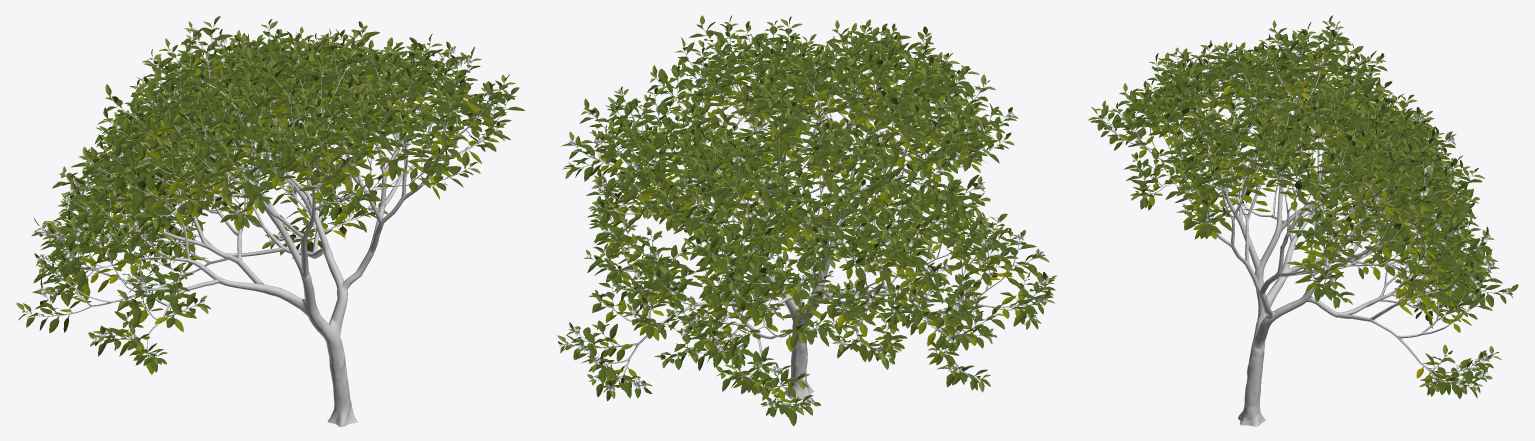
Rendered from Citrus_orange_3m_green2.obj.
3 renders of one model, left to right at view 1: azimuth 30°, elevation 25°; view 2: azimuth 150°, elevation 25°; view 3: azimuth 270°, elevation 25°, orthographic. The views are drawn at different scales.
Parts seen in each view (by area): view 1: Citrus_aurant_leaf_01, Citrus_aurant_leaf_04, Citrus_aurantium_bark, Citrus_aurant_leaf_01_y1, Citrus_aurant_leaf_02, Citrus_aurantium_twig, Citrus_simple_flower, Citrus_aurant_leaf_01_y2, Citrus_aurant_leaf_03; view 2: Citrus_aurant_leaf_01, Citrus_aurant_leaf_04, Citrus_aurant_leaf_01_y1, Citrus_aurant_leaf_02, Citrus_aurantium_bark, Citrus_aurantium_twig, Citrus_simple_flower, Citrus_aurant_leaf_03, Citrus_aurant_leaf_01_y2; view 3: Citrus_aurant_leaf_01, Citrus_aurant_leaf_04, Citrus_aurantium_bark, Citrus_aurant_leaf_01_y1, Citrus_aurant_leaf_02, Citrus_aurantium_twig, Citrus_simple_flower, Citrus_aurant_leaf_01_y2, Citrus_aurant_leaf_03.
Part boxes in pixels (left/top/right/bottom): Citrus_aurant_leaf_01: left=26, top=27, right=524, bottom=372; Citrus_aurant_leaf_04: left=16, top=16, right=519, bottom=364; Citrus_aurantium_bark: left=56, top=56, right=486, bottom=426; Citrus_aurant_leaf_01_y1: left=57, top=57, right=498, bottom=374; Citrus_aurant_leaf_02: left=23, top=27, right=510, bottom=356; Citrus_aurantium_twig: left=27, top=27, right=507, bottom=357; Citrus_simple_flower: left=36, top=27, right=489, bottom=355; Citrus_aurant_leaf_01_y2: left=60, top=69, right=468, bottom=324; Citrus_aurant_leaf_03: left=46, top=43, right=502, bottom=291; Citrus_aurant_leaf_01: left=563, top=23, right=1055, bottom=426; Citrus_aurant_leaf_04: left=557, top=15, right=1056, bottom=414; Citrus_aurant_leaf_01_y1: left=586, top=58, right=1028, bottom=402; Citrus_aurant_leaf_02: left=564, top=22, right=1054, bottom=415; Citrus_aurantium_bark: left=597, top=58, right=1021, bottom=403; Citrus_aurantium_twig: left=564, top=24, right=1044, bottom=406; Citrus_simple_flower: left=559, top=73, right=1049, bottom=408; Citrus_aurant_leaf_03: left=561, top=41, right=997, bottom=369; Citrus_aurant_leaf_01_y2: left=612, top=56, right=1012, bottom=373; Citrus_aurant_leaf_01: left=1090, top=30, right=1507, bottom=398; Citrus_aurant_leaf_04: left=1088, top=15, right=1518, bottom=391; Citrus_aurantium_bark: left=1115, top=53, right=1480, bottom=426; Citrus_aurant_leaf_01_y1: left=1117, top=50, right=1475, bottom=391; Citrus_aurant_leaf_02: left=1101, top=26, right=1510, bottom=384; Citrus_aurantium_twig: left=1098, top=24, right=1506, bottom=385; Citrus_simple_flower: left=1165, top=25, right=1509, bottom=387; Citrus_aurant_leaf_01_y2: left=1139, top=64, right=1449, bottom=378; Citrus_aurant_leaf_03: left=1120, top=40, right=1512, bottom=303.
Size of what is drawn, in the model's own units: 3.73 by 2.99 by 3.3.
